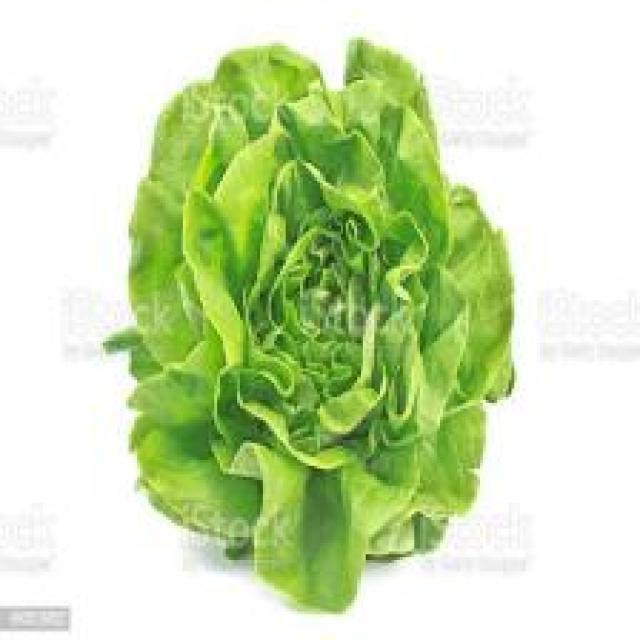Lettuce: (111, 36, 518, 604)
